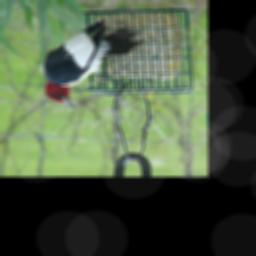Woodpecker: (44, 19, 145, 108)
